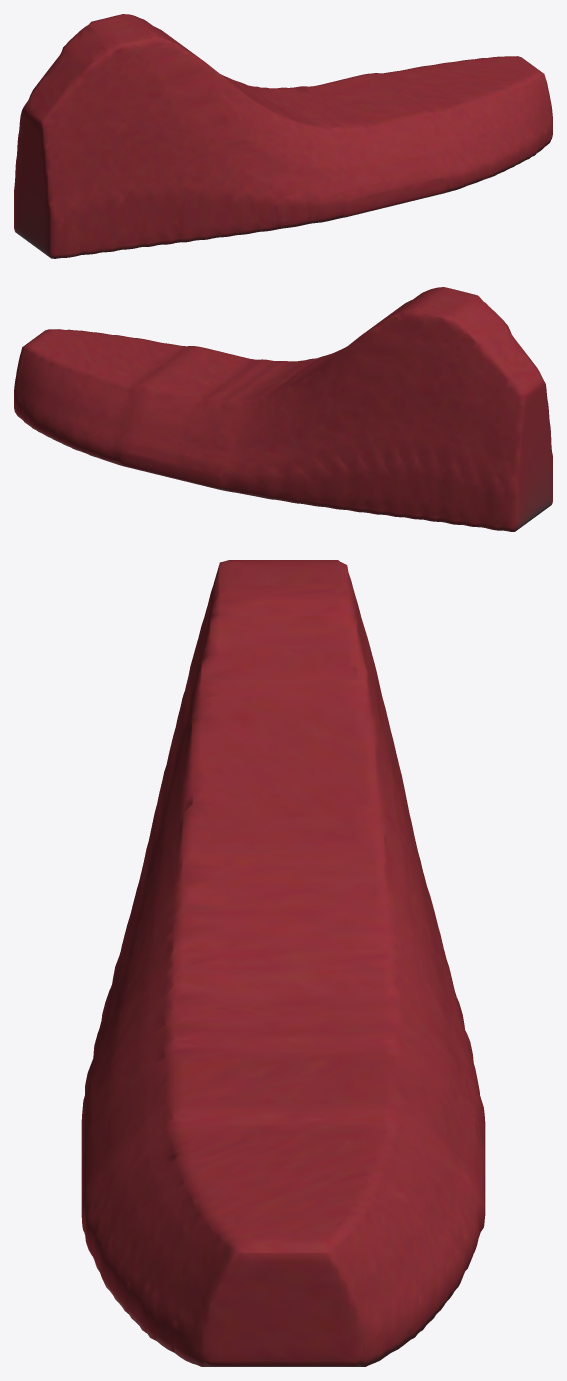
Rendered from tenis-exemplo.glb.
3 renders of one model, top to bottom at view 1: azimuth 30°, elevation 25°; view 2: azimuth 150°, elevation 25°; view 3: azimuth 270°, elevation 25°, orthographic. The views are drawn at different scales.
Visible parts, largest first — view 1: geometry_0; view 2: geometry_0; view 3: geometry_0.
Boxes of the visible parts, x1=… form: geometry_0: x1=14, y1=14, x2=552, y2=258; geometry_0: x1=14, y1=287, x2=552, y2=531; geometry_0: x1=81, y1=560, x2=485, y2=1366.
Size of the model in its own units: 28 by 10.42 by 9.74.
